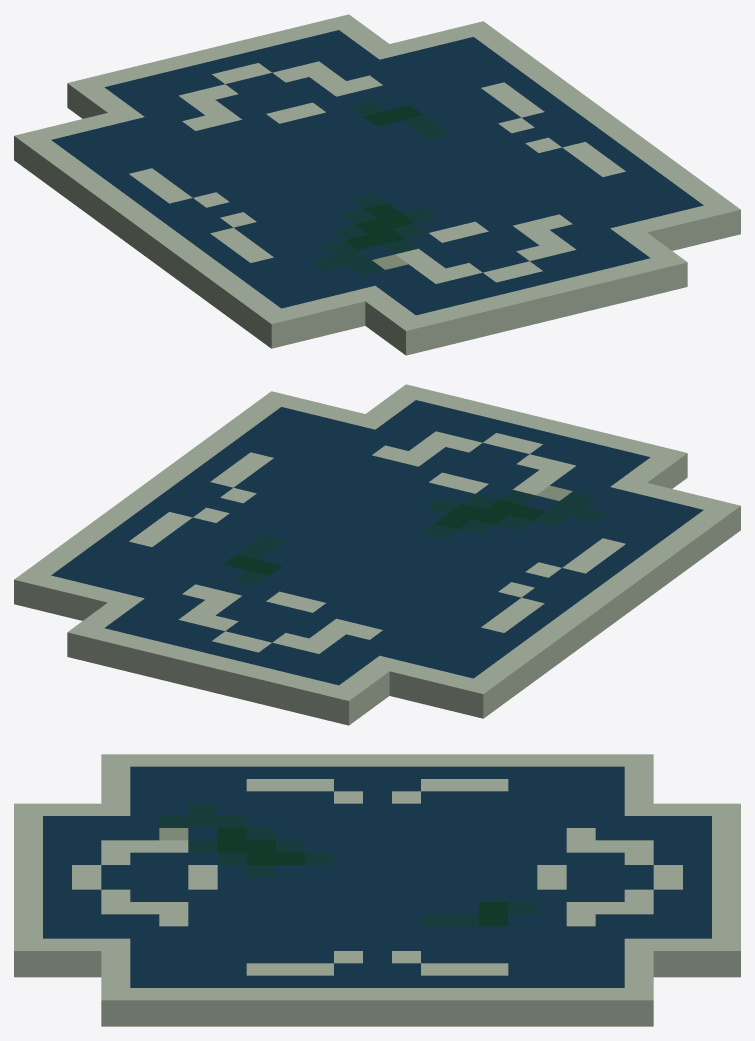
The model's file is BlueRug_03.obj.
3 views of the same model, one above another, from view 1: azimuth 30°, elevation 25°; view 2: azimuth 150°, elevation 25°; view 3: azimuth 270°, elevation 25° (orthographic). The views are drawn at different scales.
Visible parts, largest first — view 1: BlueRug_03.001; view 2: BlueRug_03.001; view 3: BlueRug_03.001.
Boxes of the visible parts, x1,y1,x2,y2 form: BlueRug_03.001: (14,14,740,355); BlueRug_03.001: (14,384,740,725); BlueRug_03.001: (14,754,740,1026).
Size of the model in its own units: 2 by 0.1 by 2.5.
